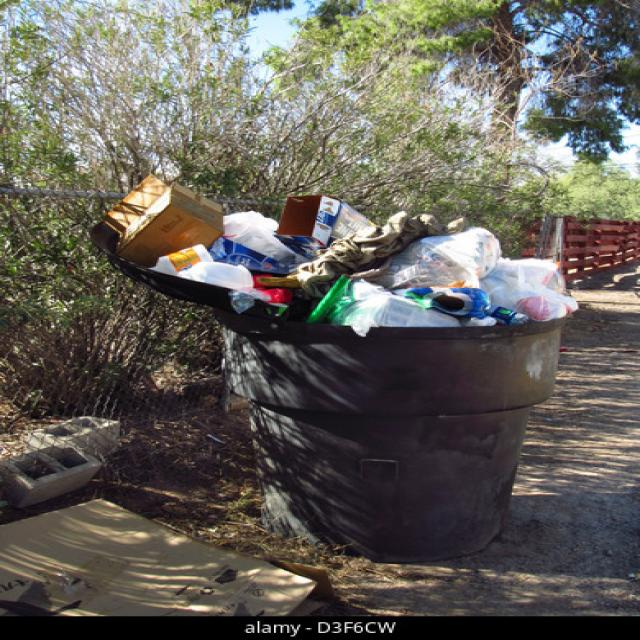cardboard: (110, 193, 226, 262), (276, 198, 348, 252)
plastic: (333, 280, 524, 326)
trash: (366, 216, 520, 280)
